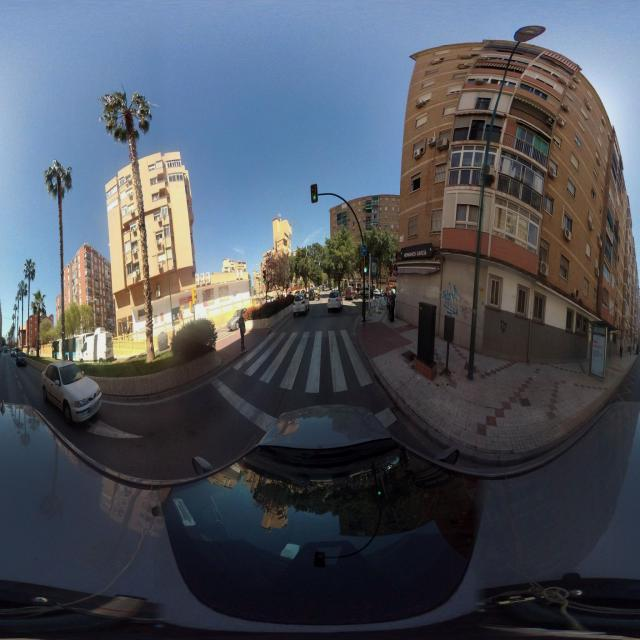car: (41, 361, 102, 426), (292, 292, 308, 316), (327, 288, 343, 312), (15, 347, 27, 368), (345, 285, 355, 299)
